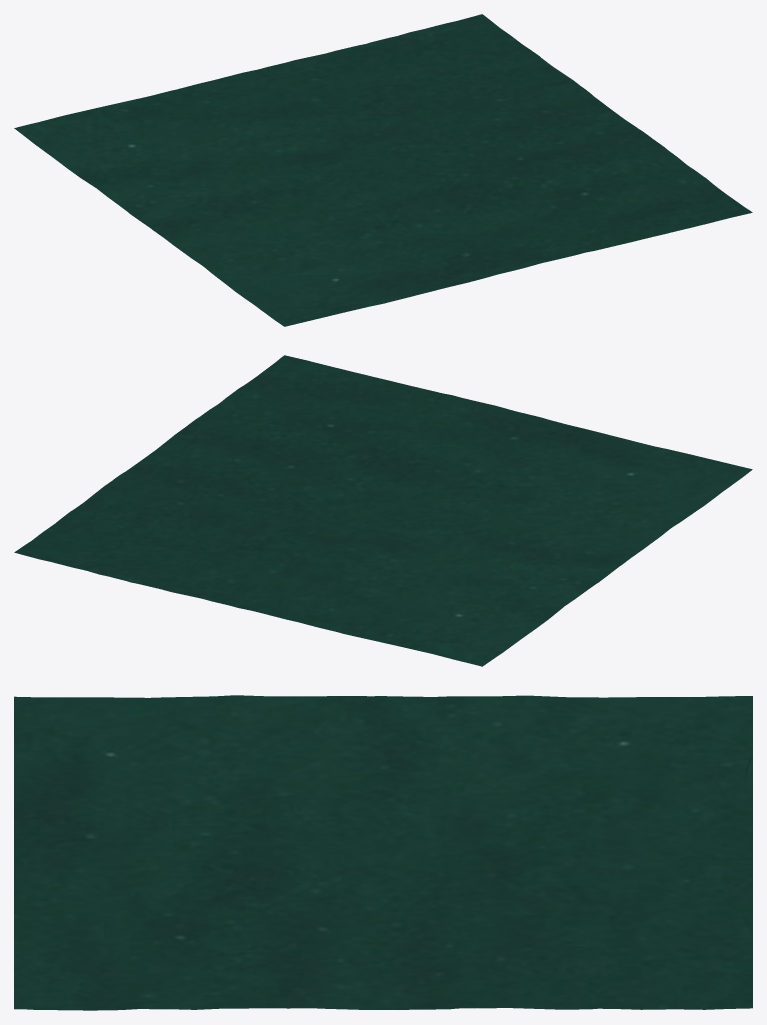
3 views of the same model, one above another, from view 1: azimuth 30°, elevation 25°; view 2: azimuth 150°, elevation 25°; view 3: azimuth 270°, elevation 25° (orthographic). The views are drawn at different scales.
Size of the model in its own units: 104 by 0.7171 by 104.
Materials: 3 (3 with a texture image).
